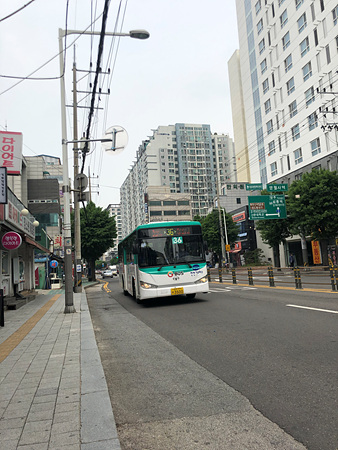bnum: (172, 235, 182, 244)
